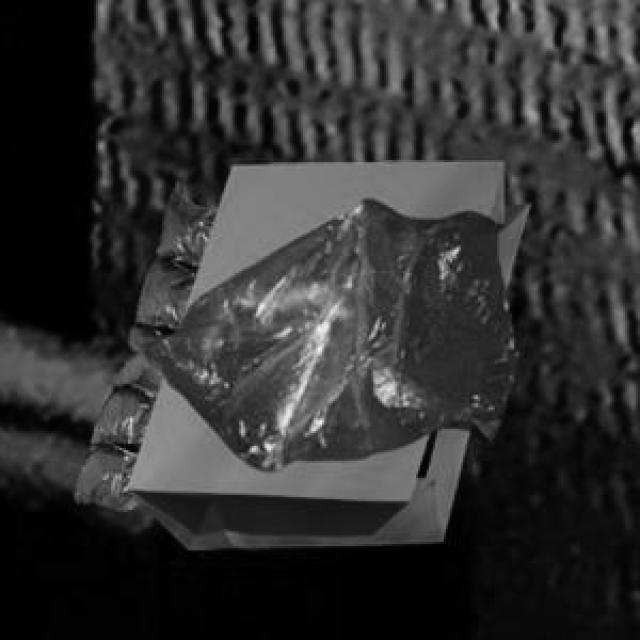miscellaneous trash: (70, 179, 213, 506)
paper: (124, 158, 527, 546)
